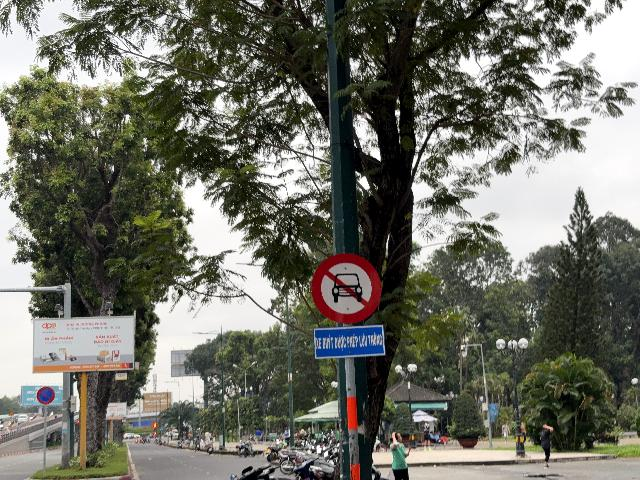cam-o-to: (311, 253, 382, 324)
